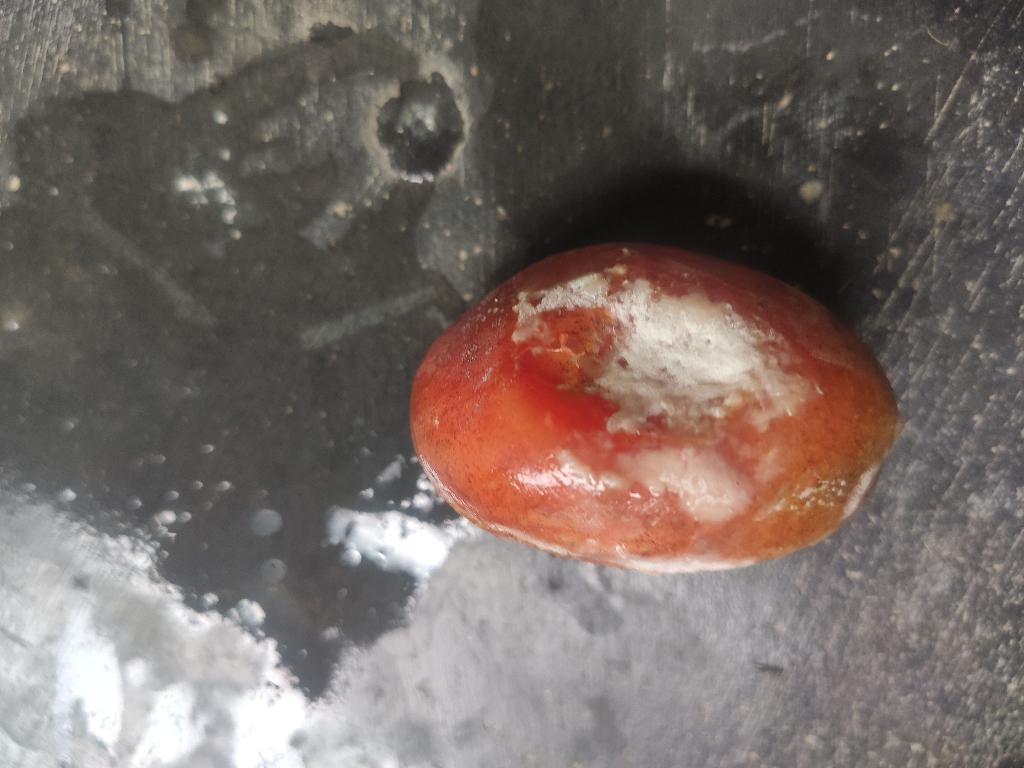rot_mold_decay: (514, 266, 810, 438)
tomato: (411, 243, 899, 572)
